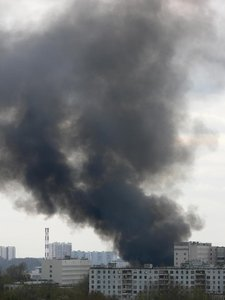smoke: (1, 1, 202, 259)
